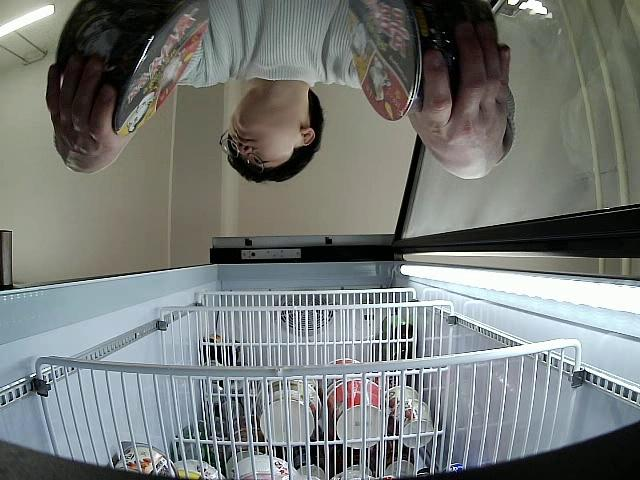00_hand: (406, 22, 512, 179), (46, 56, 137, 176)
07_buldak_L: (55, 0, 211, 139), (347, 0, 493, 121)
